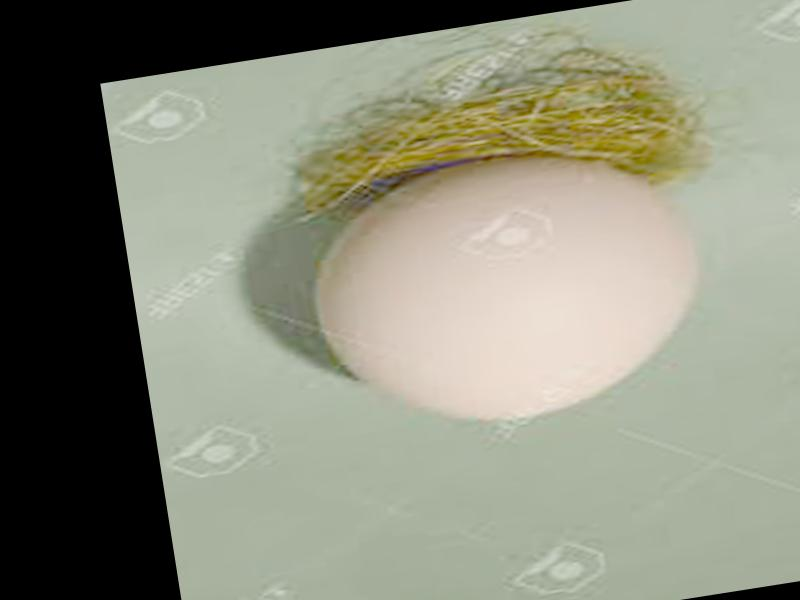Eggs: (298, 134, 715, 448)
